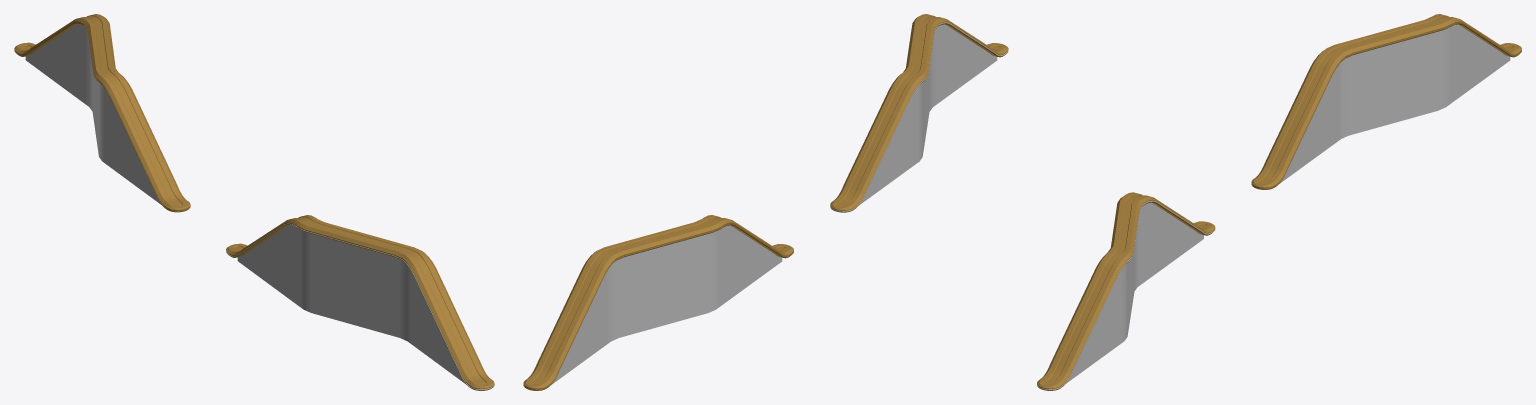
File: BSPKWL_Front2.fbx
3 views of the same model, side by side, from view 1: azimuth 30°, elevation 25°; view 2: azimuth 150°, elevation 25°; view 3: azimuth 330°, elevation 25° (orthographic).
Visible parts, largest first — view 1: sm_wall_medium_screen.009; view 2: sm_wall_medium_screen.009; view 3: sm_wall_medium_screen.009.
Boxes of the visible parts, x1,y1,x2,y2 form: sm_wall_medium_screen.009: [14, 14, 494, 390]; sm_wall_medium_screen.009: [523, 14, 1008, 390]; sm_wall_medium_screen.009: [1037, 14, 1521, 390].
Bounding box in the file's own units: 511 × 610 × 5950.
